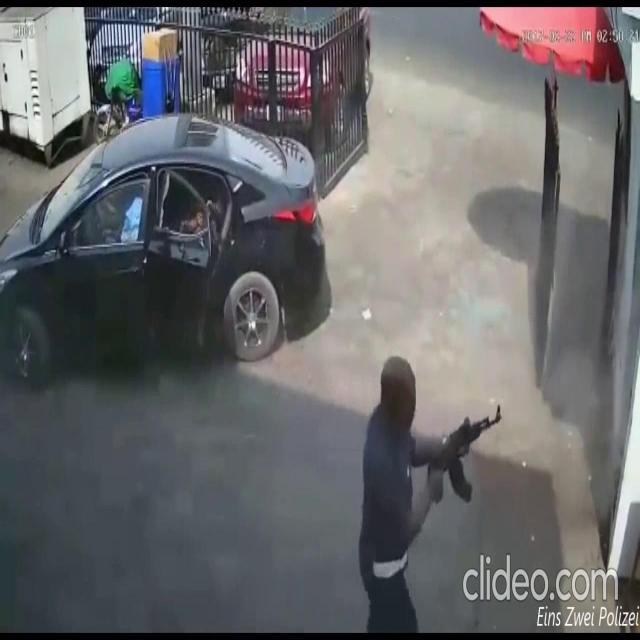pistol: (429, 402, 503, 506)
